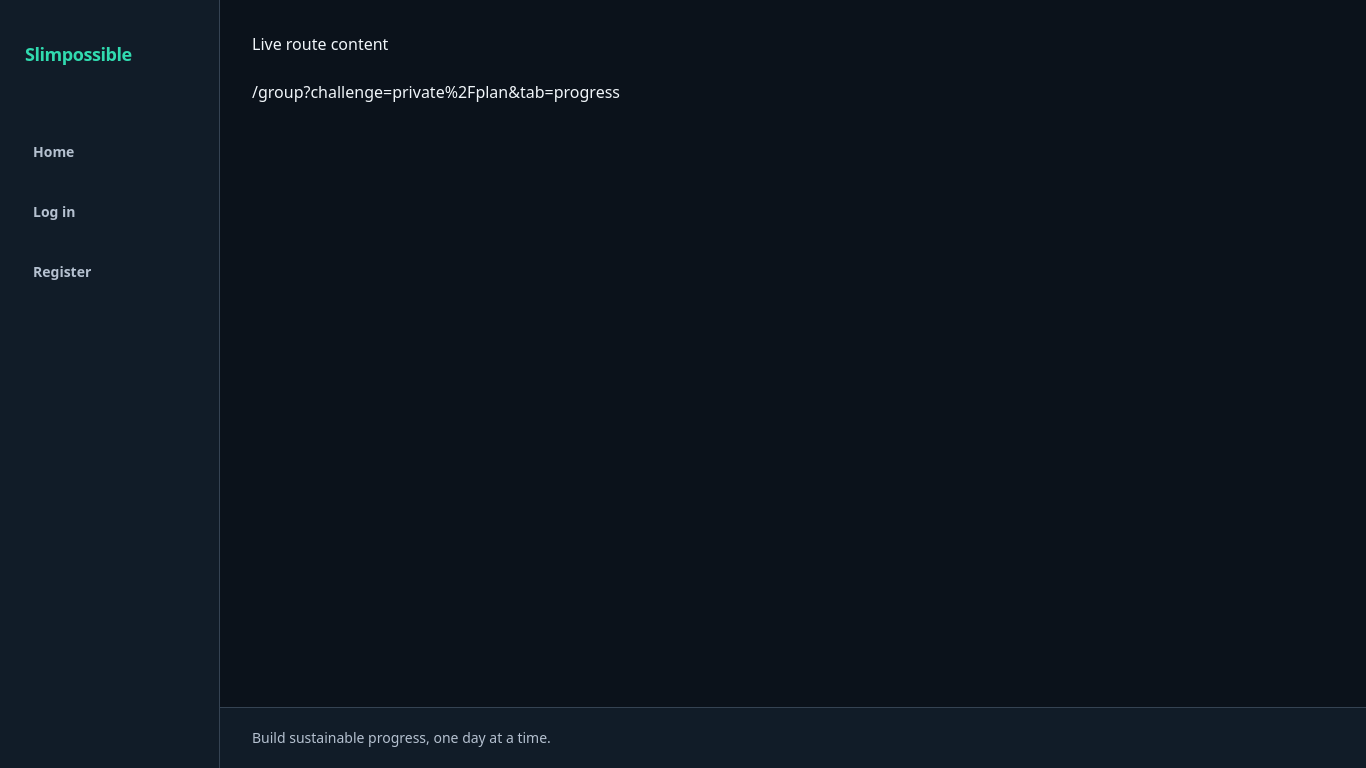
Test: AppLayout › the signed-out logo opens its canonical home without challenge parameters
What coordinates should you click on to do the following:
click the link "Slimpossible"
I would click on:
 (78, 54)
Its box is [25,42,132,66].
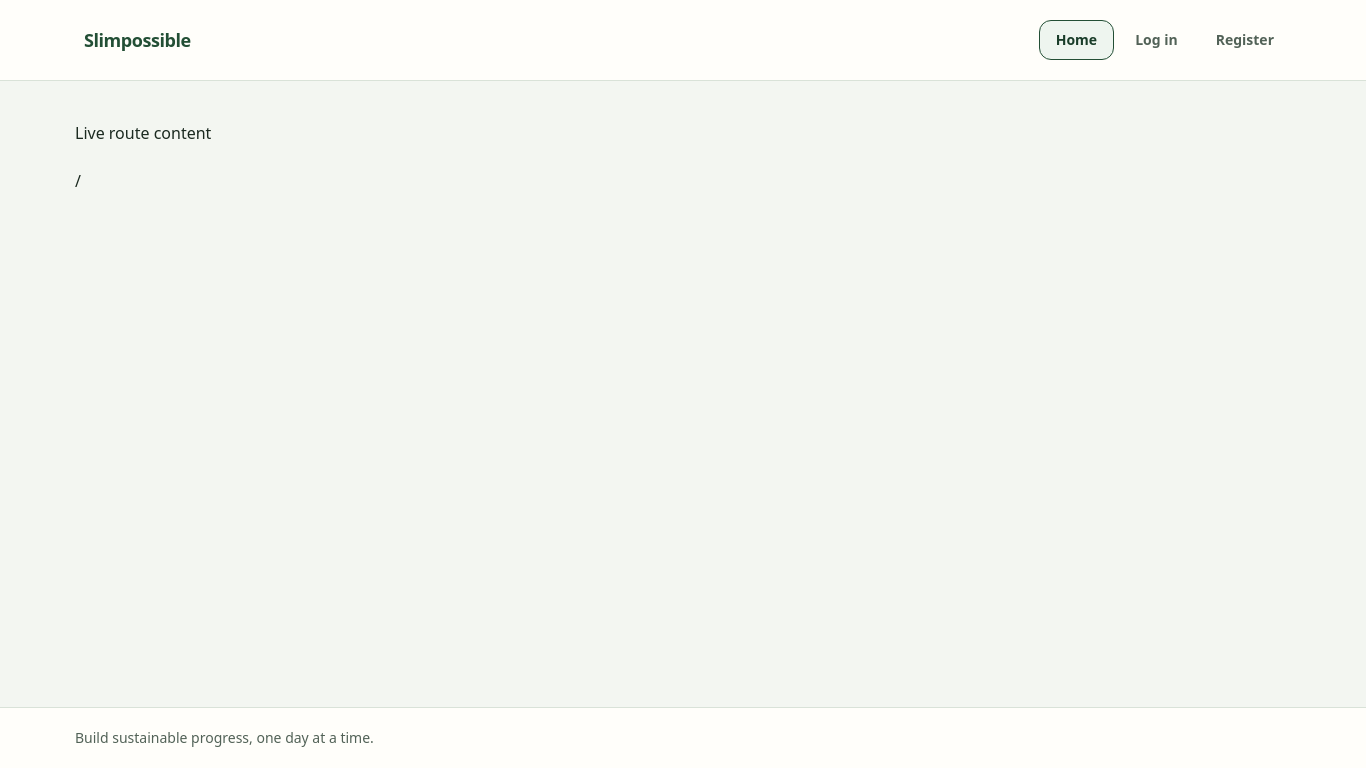
Check: the text with test id "current-route" reads "/", box [75,170,81,192]
